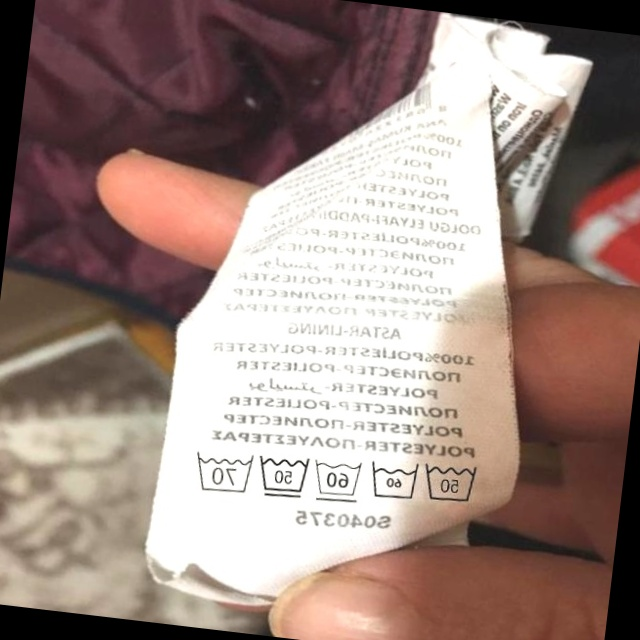50C: (417, 453, 485, 510), (252, 449, 313, 504)
60C: (307, 452, 365, 506), (363, 455, 422, 507)
70C: (186, 446, 255, 498)
